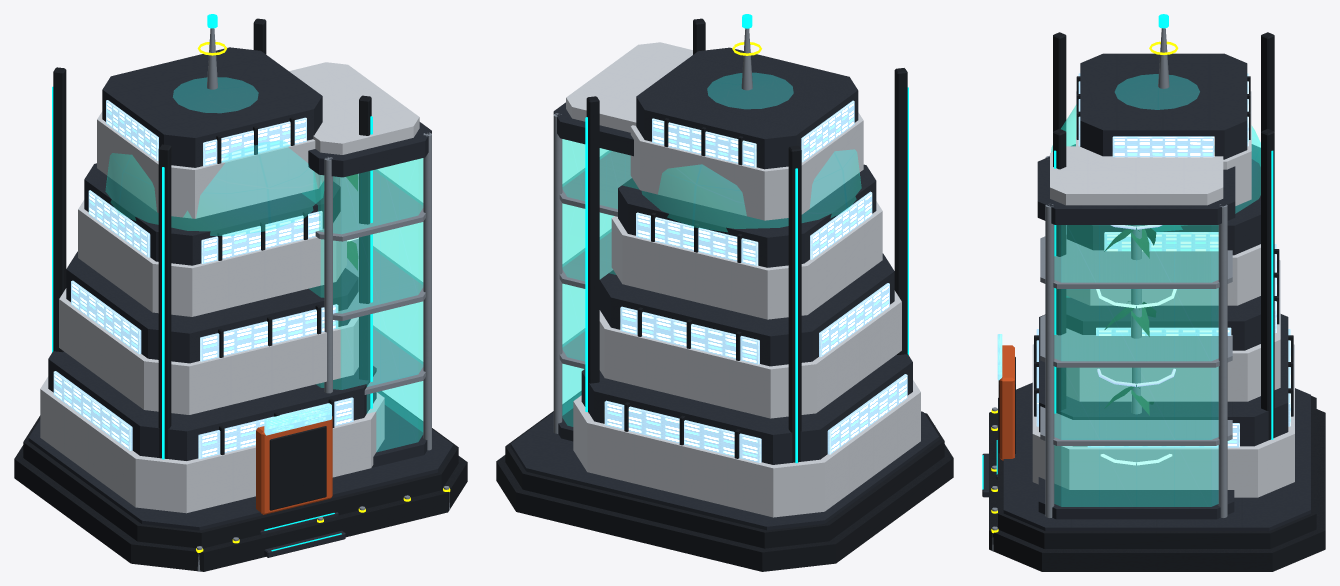
The model's file is bldg_06_r1_04.glb.
3 views of the same model, side by side, from view 1: azimuth 30°, elevation 25°; view 2: azimuth 150°, elevation 25°; view 3: azimuth 270°, elevation 25° (orthographic).
Visible parts, largest first — view 1: Bldg06_C04_aero_white, Bldg06_C04_carbon_slate, Bldg06_C04_gunmetal, Bldg06_C04_glass_emerald, Bldg06_C04_window_lit, Bldg06_C04_steel_machined, Bldg06_C04_led_cyan, Bldg06_C04_accent_orange, Bldg06_C04_marquee; view 2: Bldg06_C04_aero_white, Bldg06_C04_carbon_slate, Bldg06_C04_gunmetal, Bldg06_C04_window_lit, Bldg06_C04_glass_emerald, Bldg06_C04_steel_machined, Bldg06_C04_led_cyan; view 3: Bldg06_C04_carbon_slate, Bldg06_C04_glass_emerald, Bldg06_C04_aero_white, Bldg06_C04_gunmetal, Bldg06_C04_steel_machined, Bldg06_C04_window_lit, Bldg06_C04_accent_orange, Bldg06_C04_led_cyan, Bldg06_C04_foliage, Bldg06_C04_led_ice, Bldg06_C04_led_uv.
Boxes of the visible parts, x1,y1,x2,y2 form: Bldg06_C04_aero_white: (40, 62, 419, 513); Bldg06_C04_carbon_slate: (28, 47, 453, 557); Bldg06_C04_gunmetal: (14, 18, 467, 571); Bldg06_C04_glass_emerald: (105, 77, 423, 451); Bldg06_C04_window_lit: (53, 100, 353, 459); Bldg06_C04_steel_machined: (196, 28, 449, 571); Bldg06_C04_led_cyan: (52, 14, 372, 551); Bldg06_C04_accent_orange: (256, 416, 332, 514); Bldg06_C04_marquee: (264, 403, 331, 435); Bldg06_C04_aero_white: (566, 42, 920, 517); Bldg06_C04_carbon_slate: (510, 47, 939, 530); Bldg06_C04_gunmetal: (496, 18, 953, 571); Bldg06_C04_window_lit: (604, 100, 907, 462); Bldg06_C04_glass_emerald: (562, 73, 861, 426); Bldg06_C04_steel_machined: (553, 28, 935, 433); Bldg06_C04_led_cyan: (585, 14, 908, 463); Bldg06_C04_carbon_slate: (982, 53, 1310, 530); Bldg06_C04_glass_emerald: (1051, 74, 1260, 506); Bldg06_C04_aero_white: (1032, 91, 1294, 497); Bldg06_C04_gunmetal: (989, 32, 1325, 571); Bldg06_C04_steel_machined: (992, 28, 1232, 551); Bldg06_C04_window_lit: (1036, 73, 1290, 447); Bldg06_C04_accent_orange: (999, 345, 1014, 460); Bldg06_C04_led_cyan: (982, 14, 1273, 489); Bldg06_C04_foliage: (1104, 225, 1156, 415); Bldg06_C04_led_ice: (1096, 289, 1176, 465); Bldg06_C04_led_uv: (1097, 225, 1175, 386).
Bounding box in the file's own units: 12 × 15.93 × 10.71.
14 materials, 14 textured.
